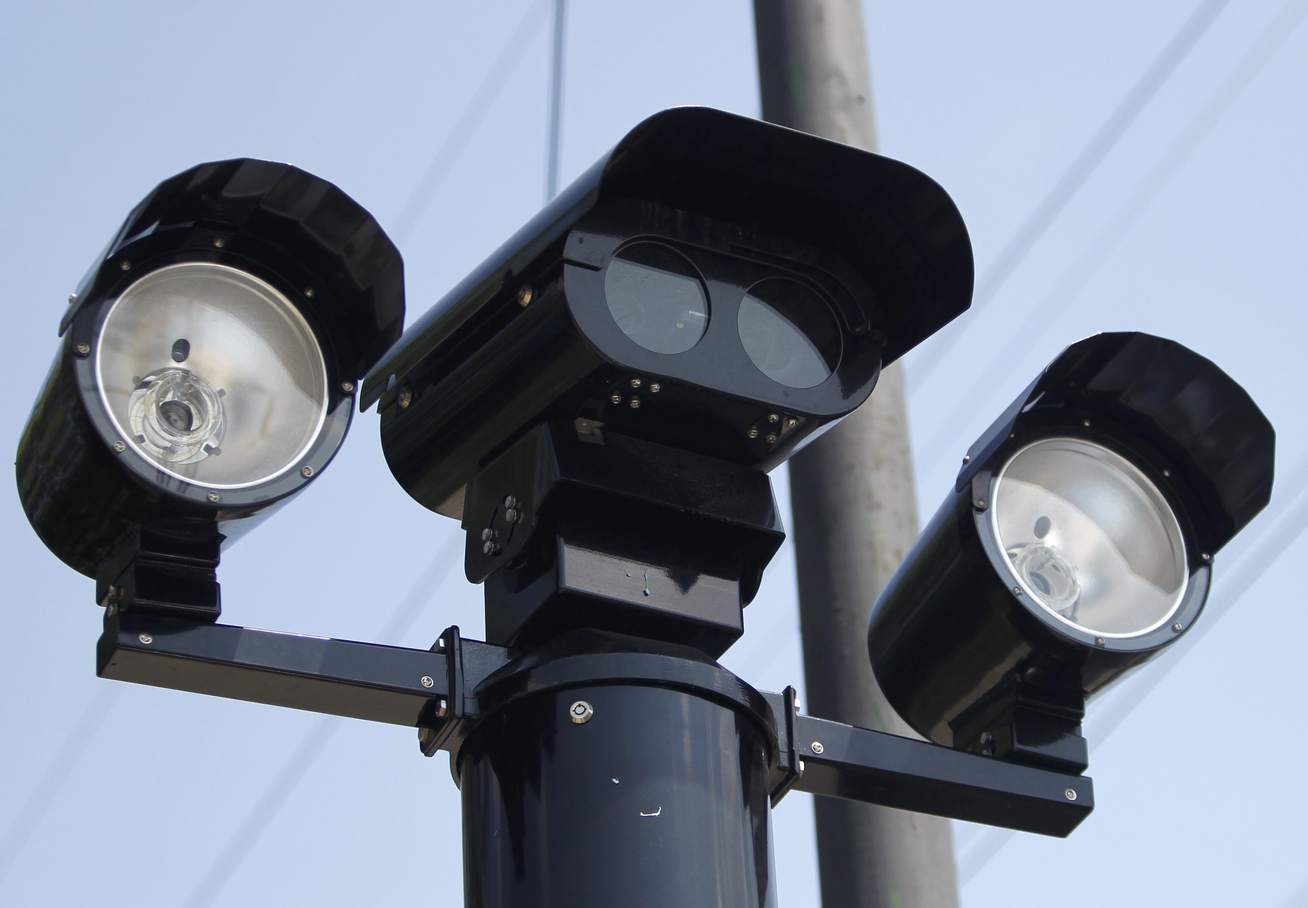Monitor: (14, 101, 1274, 901)
